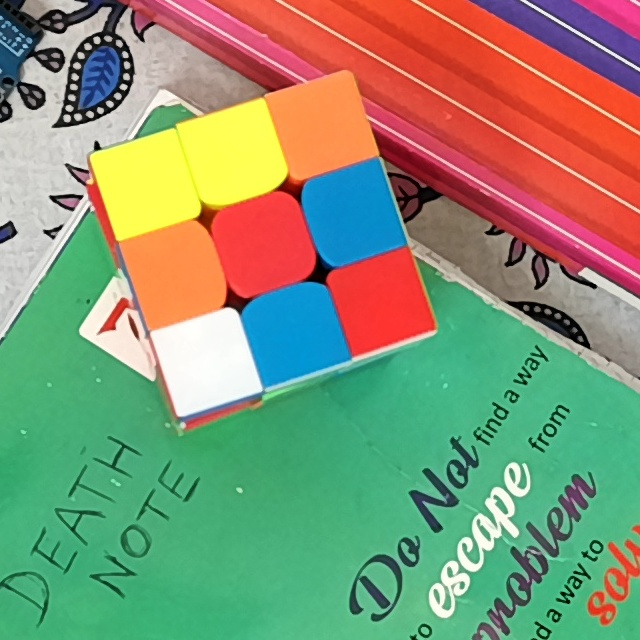tile: (226, 211, 299, 279), (285, 91, 355, 159), (109, 150, 180, 217), (171, 329, 243, 395), (260, 297, 330, 364), (139, 238, 208, 305), (317, 180, 386, 246), (197, 123, 267, 187), (350, 269, 416, 333)
